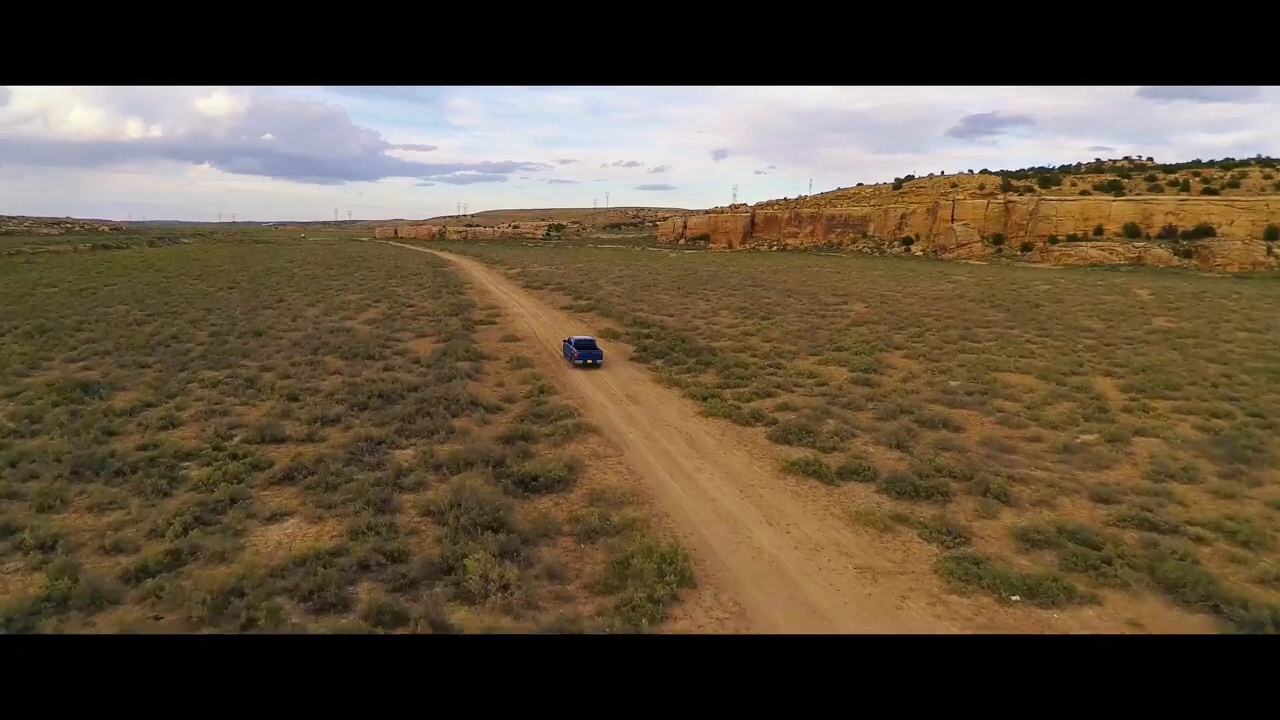kamyonet: (559, 332, 608, 365)
